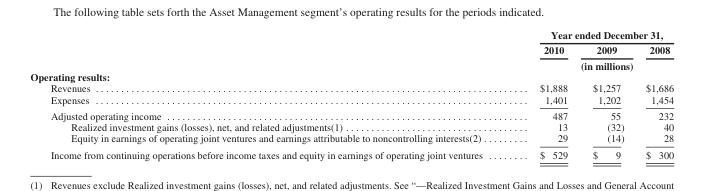table: (29, 28, 673, 159)
table column: (29, 28, 510, 159), (510, 28, 579, 159), (579, 28, 634, 159), (634, 28, 673, 159)
table column header: (29, 28, 673, 70)
table projected row header: (29, 70, 673, 82)
table row: (29, 42, 673, 57), (29, 28, 673, 42), (29, 93, 673, 107), (29, 107, 673, 121), (29, 132, 673, 146), (29, 57, 673, 70), (29, 146, 673, 159), (29, 70, 673, 82), (29, 82, 673, 93), (29, 121, 673, 132)
table spanning cell: (510, 28, 673, 42), (510, 57, 673, 70)
